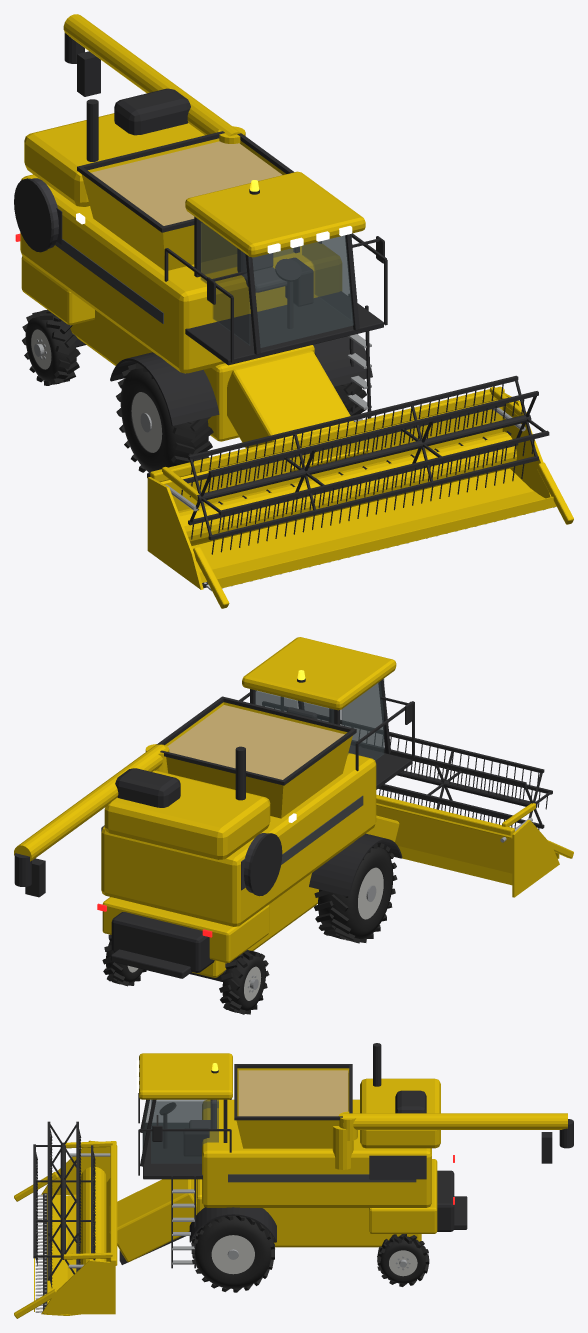
Rendered from cosechadora.glb.
3 renders of one model, top to bottom at view 1: azimuth 30°, elevation 25°; view 2: azimuth 150°, elevation 25°; view 3: azimuth 270°, elevation 25°, orthographic. The views are drawn at different scales.
Parts seen in each view (by area): view 1: carroceria, cabezal, molinete, vidrios, carga, rueda_dd, tubo_descarga, rueda_td; view 2: carroceria, cabezal, carga, molinete, rueda_dd, tubo_descarga, vidrios, rueda_td, rueda_ti; view 3: carroceria, cabezal, carga, rueda_di, tubo_descarga, molinete, vidrios, rueda_ti.
Part boxes in pixels (box(x1,y1,x2,y2)): carroceria: box(14, 51, 387, 441); cabezal: box(147, 351, 573, 608); molinete: box(181, 375, 549, 554); vidrios: box(200, 221, 353, 347); carga: box(91, 141, 282, 225); rueda_dd: box(116, 363, 213, 477); tubo_descarga: box(63, 14, 245, 143); rueda_td: box(22, 309, 80, 385); carroceria: box(25, 637, 414, 981); cabezal: box(366, 794, 573, 897); carga: box(167, 705, 344, 779); molinete: box(262, 701, 552, 829); rueda_dd: box(314, 843, 397, 943); tubo_descarga: box(14, 744, 169, 886); vidrios: box(255, 679, 384, 760); rueda_td: box(219, 950, 269, 1014); rueda_ti: box(102, 934, 146, 986); carroceria: box(138, 1043, 552, 1268); cabezal: box(14, 1140, 196, 1318); carga: box(238, 1070, 348, 1116); rueda_di: box(191, 1216, 275, 1292); tubo_descarga: box(339, 1111, 573, 1148); molinete: box(33, 1121, 95, 1287); vidrios: box(142, 1099, 218, 1163); rueda_ti: box(377, 1234, 429, 1286).
Bounding box in the file's own units: 5.44 × 4.23 × 10.71.
